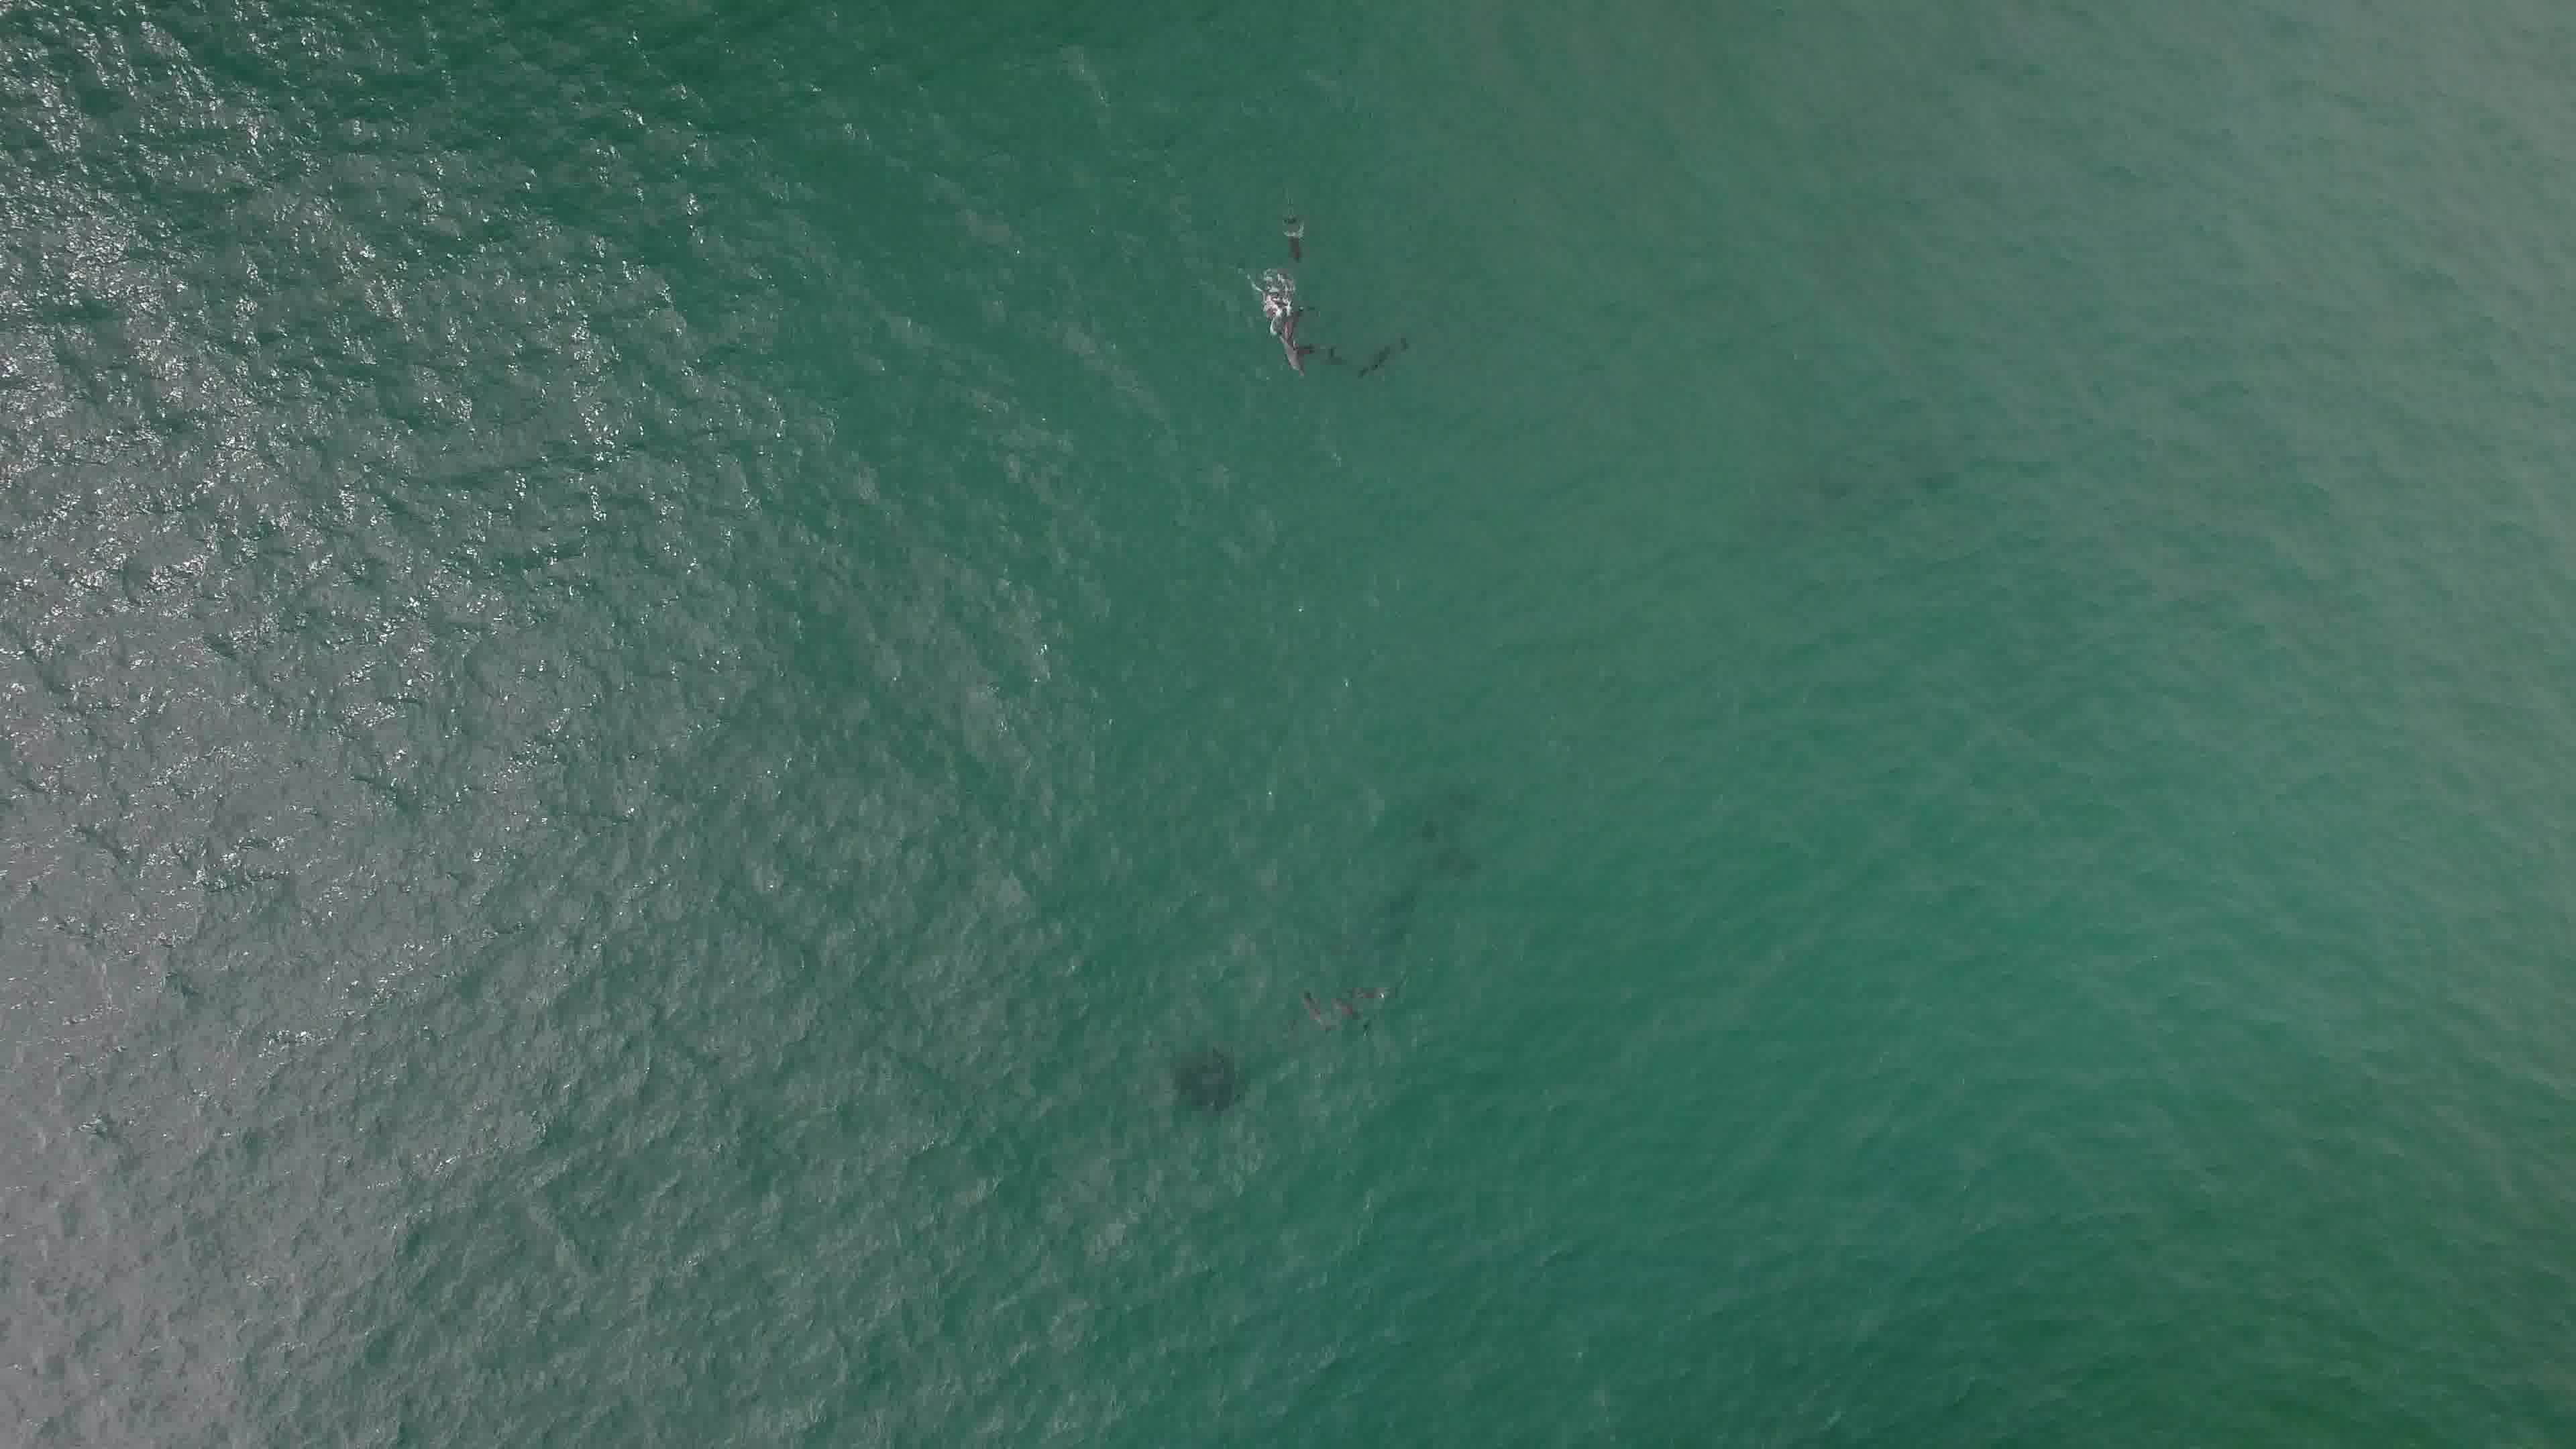dolphin: (1247, 274, 1315, 382), (1293, 971, 1375, 1035), (1274, 196, 1316, 272), (1346, 331, 1407, 384)
